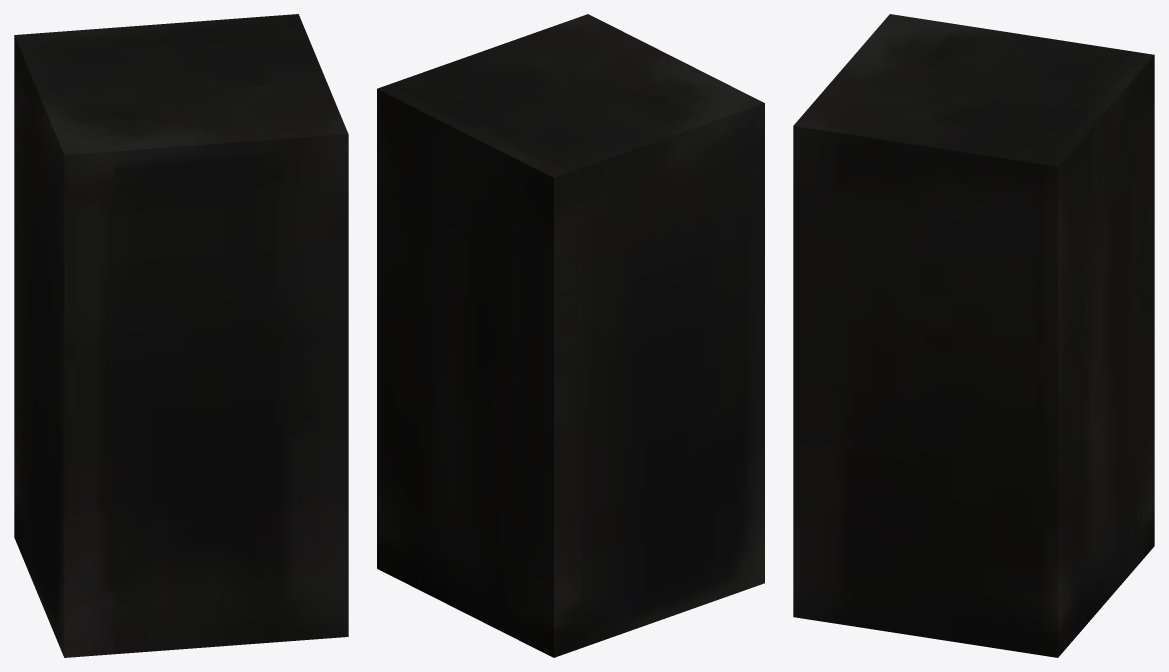
File: center_frame__rack_tooth_0.glb
3 views of the same model, side by side, from view 1: azimuth 30°, elevation 25°; view 2: azimuth 150°, elevation 25°; view 3: azimuth 270°, elevation 25° (orthographic). The views are drawn at different scales.
Parts seen in each view (by area): view 1: world; view 2: world; view 3: world.
Part boxes in pixels (left/top/right/bottom): world: left=14, top=14, right=348, bottom=657; world: left=377, top=14, right=764, bottom=657; world: left=793, top=14, right=1154, bottom=657.
Size of the model in its own units: 0.0333 by 0.05 by 0.0333.
Materials: 1 (1 with a texture image).
